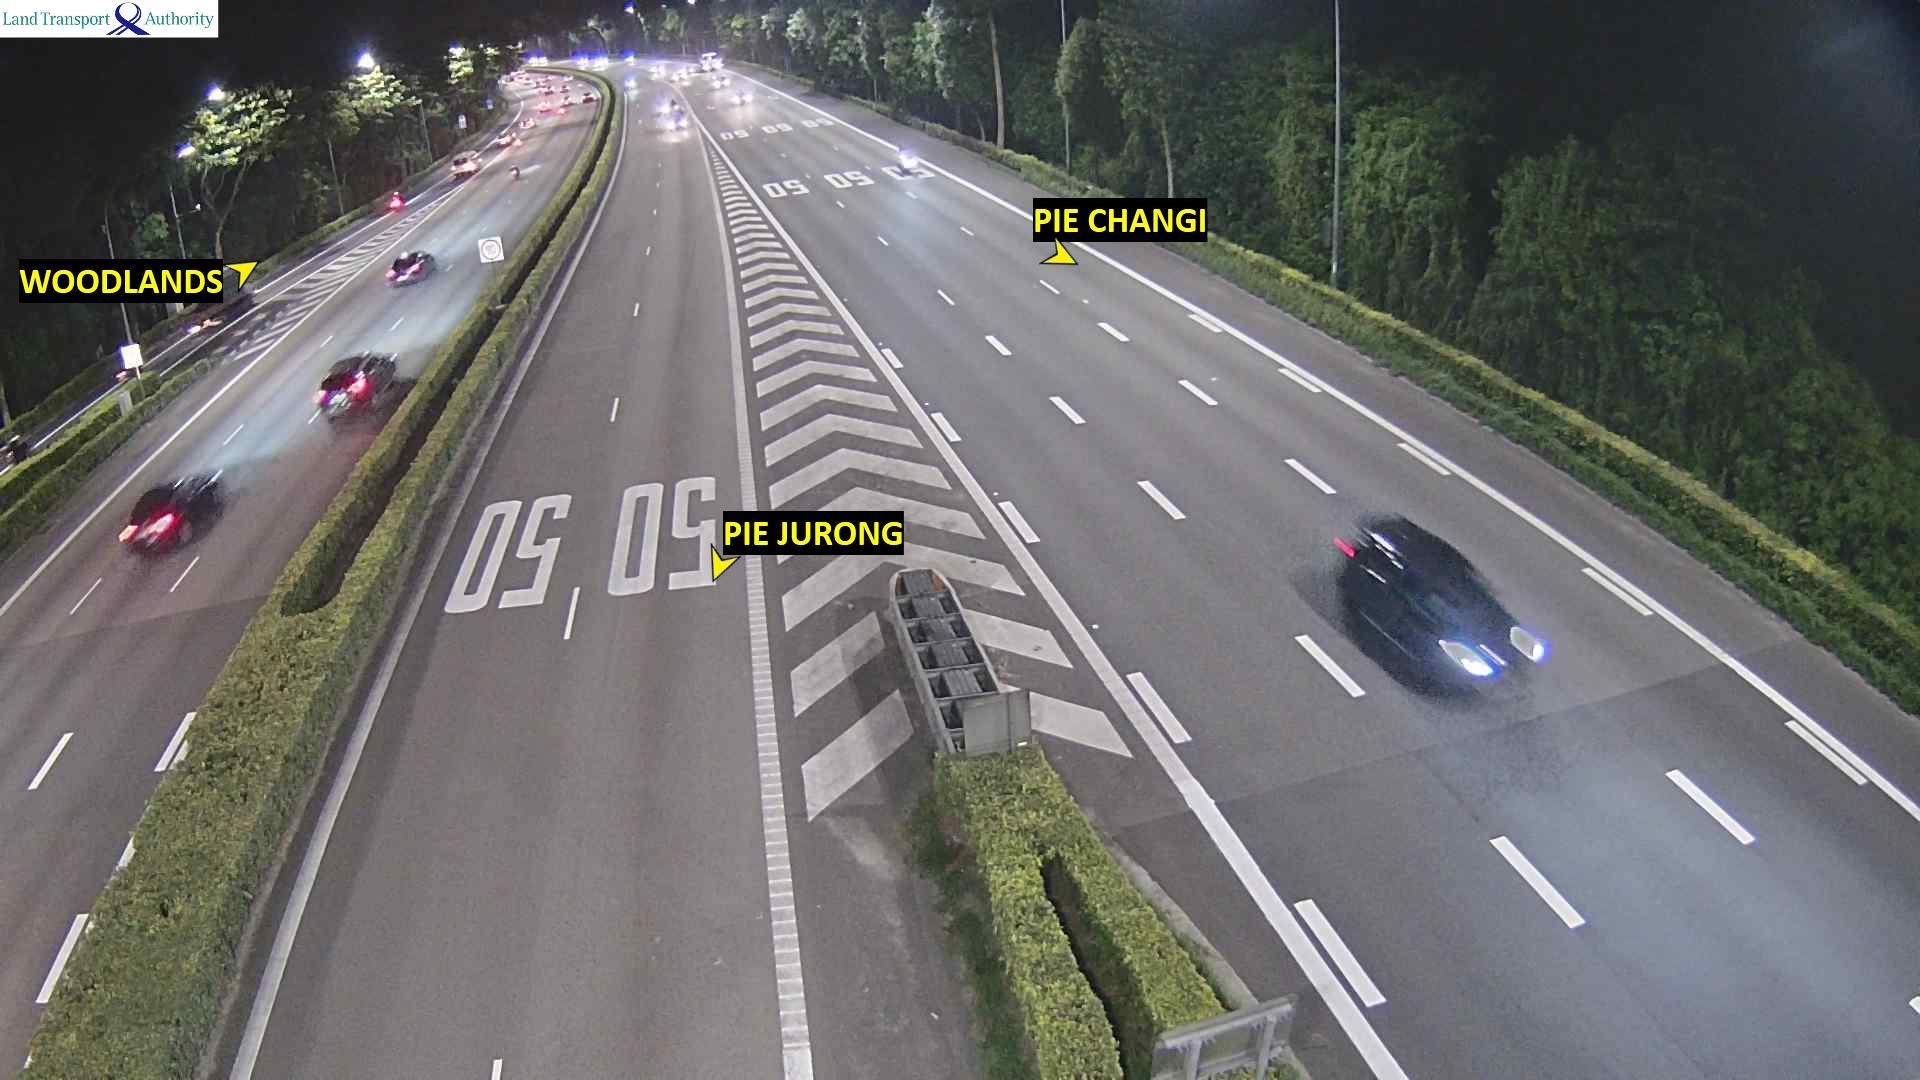incoming: (1416, 579, 1553, 711), (666, 115, 695, 132)
